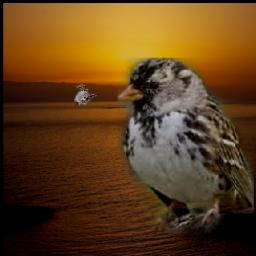Sparrow: (118, 58, 254, 236), (74, 84, 99, 106)
